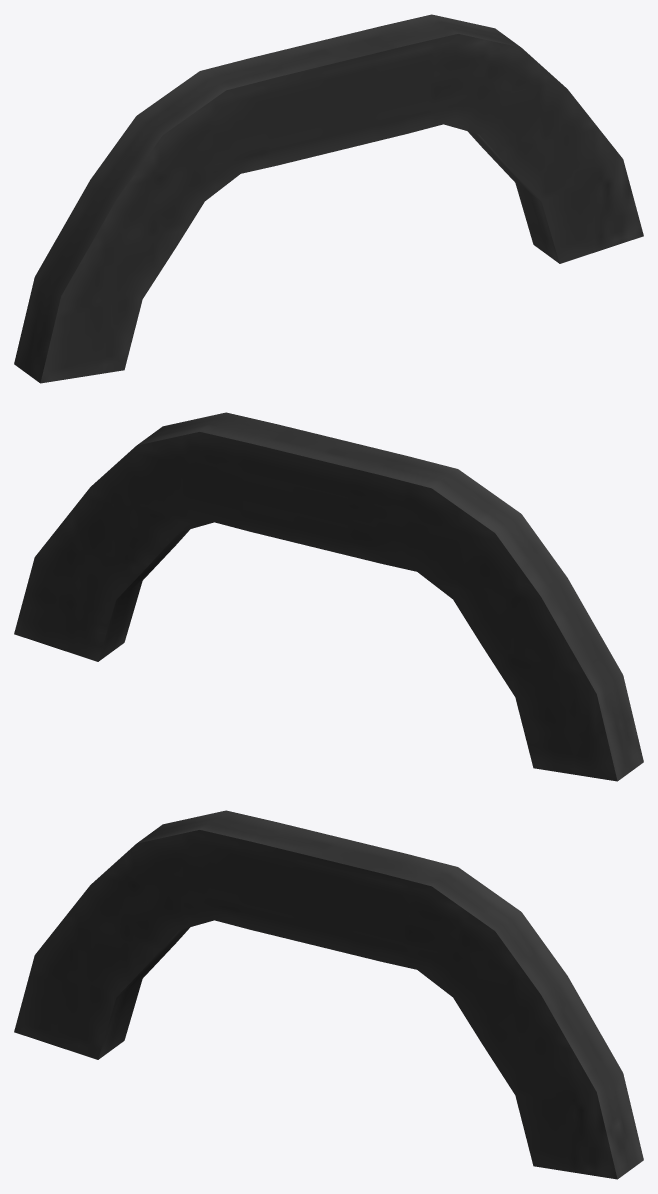
The model's file is Cowboy Moustache.fbx.
3 views of the same model, one above another, from view 1: azimuth 30°, elevation 25°; view 2: azimuth 150°, elevation 25°; view 3: azimuth 330°, elevation 25° (orthographic).
Visible parts, largest first — view 1: 3d_cowboy_moustache; view 2: 3d_cowboy_moustache; view 3: 3d_cowboy_moustache.
Boxes of the visible parts, x1,y1,x2,y2 form: 3d_cowboy_moustache: [14, 14, 643, 383]; 3d_cowboy_moustache: [14, 412, 643, 781]; 3d_cowboy_moustache: [14, 810, 643, 1179].
Size of the model in its own units: 21.24 by 8.6 by 1.61.
